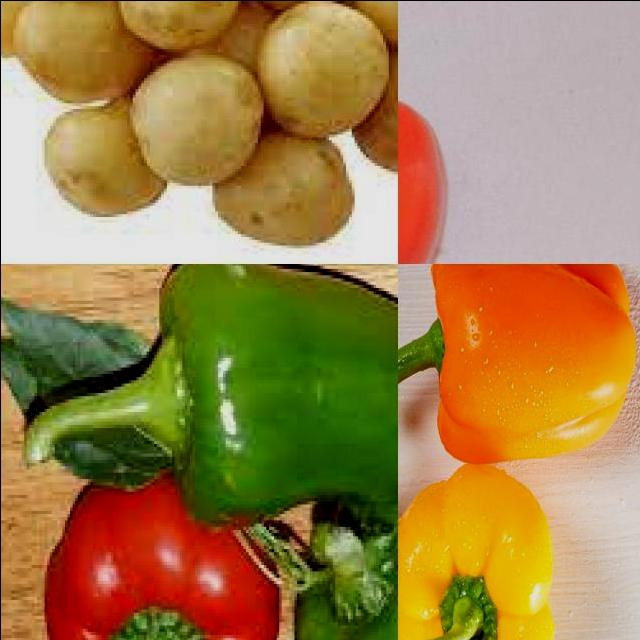bell_pepper: (398, 264, 636, 462), (398, 470, 552, 640), (284, 469, 398, 640)
potato: (133, 53, 264, 184), (264, 6, 394, 134), (214, 134, 348, 244), (19, 1, 150, 101), (48, 107, 163, 218), (354, 53, 398, 171), (124, 1, 247, 43)
tomato: (398, 80, 478, 264)
